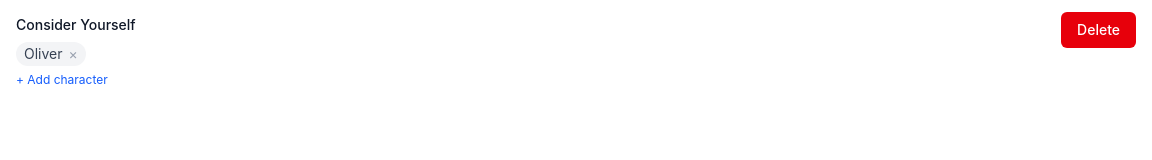
Test: SongItem — admin title editing › switches to an input when title is clicked
Click the text "Consider Yourself".
click(76, 24)  # box [16, 16, 136, 33]
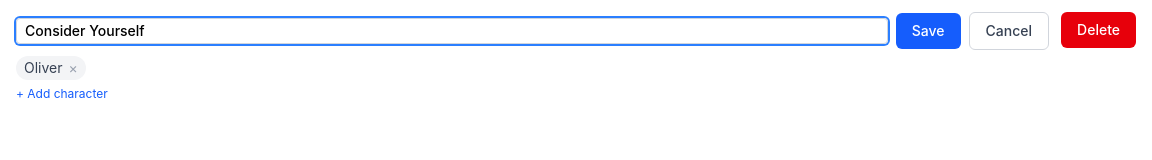
Expected: the field holds "Consider Yourself", [16, 18, 888, 44]
